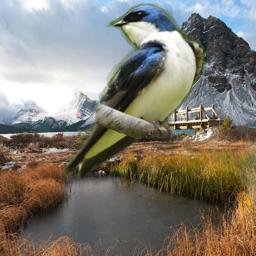Swallow: (61, 3, 205, 180)
